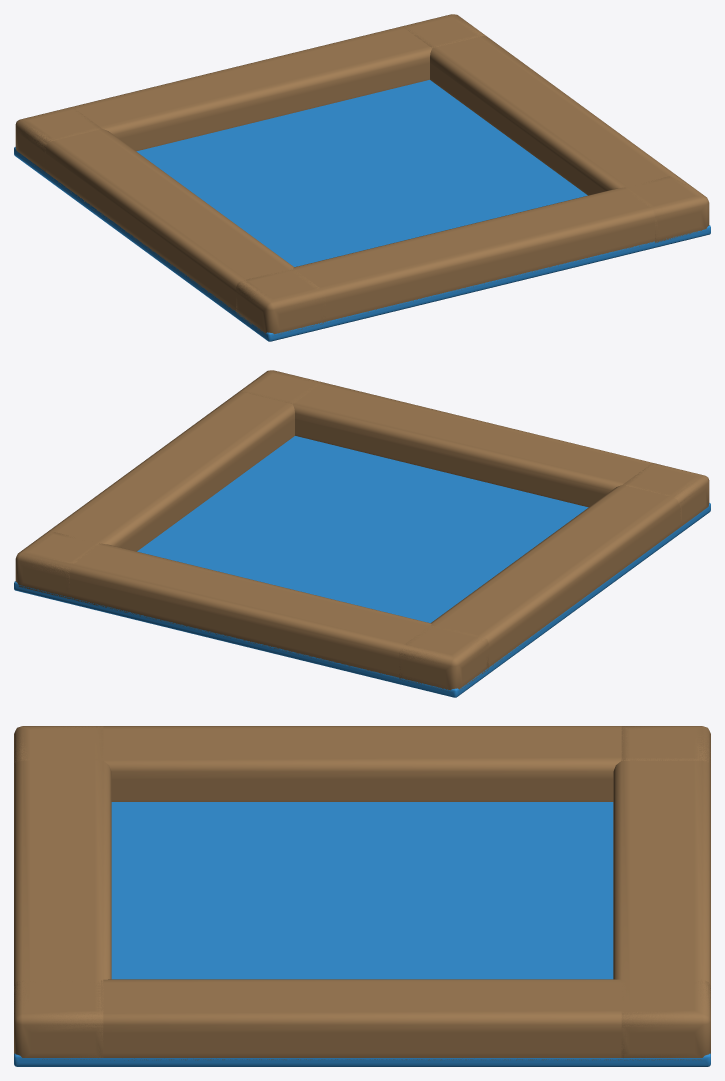
The model's file is channel.glb.
3 views of the same model, one above another, from view 1: azimuth 30°, elevation 25°; view 2: azimuth 150°, elevation 25°; view 3: azimuth 270°, elevation 25° (orthographic). The views are drawn at different scales.
Visible parts, largest first — view 1: Channel_Water, Channel_Bank_S, Channel_Bank_N, Channel_Bank_W, Channel_Bank_E; view 2: Channel_Water, Channel_Bank_N, Channel_Bank_S, Channel_Bank_W, Channel_Bank_E; view 3: Channel_Water, Channel_Bank_E, Channel_Bank_W, Channel_Bank_N, Channel_Bank_S.
Part boxes in pixels (x1=…): Channel_Water: x1=14, y1=80, x2=710, y2=341; Channel_Bank_S: x1=236, y1=175, x2=709, y2=334; Channel_Bank_N: x1=15, y1=14, x2=486, y2=172; Channel_Bank_W: x1=17, y1=107, x2=325, y2=334; Channel_Bank_E: x1=403, y1=14, x2=706, y2=242; Channel_Water: x1=14, y1=436, x2=710, y2=697; Channel_Bank_N: x1=15, y1=532, x2=488, y2=690; Channel_Bank_S: x1=238, y1=370, x2=709, y2=527; Channel_Bank_W: x1=399, y1=463, x2=708, y2=689; Channel_Bank_E: x1=19, y1=370, x2=322, y2=598; Channel_Water: x1=14, y1=802, x2=710, y2=1066; Channel_Bank_E: x1=14, y1=979, x2=710, y2=1060; Channel_Bank_W: x1=14, y1=726, x2=710, y2=801; Channel_Bank_N: x1=613, y1=726, x2=710, y2=1060; Channel_Bank_S: x1=14, y1=726, x2=111, y2=1059.
Size of the model in its own units: 1 by 0.08 by 1.
